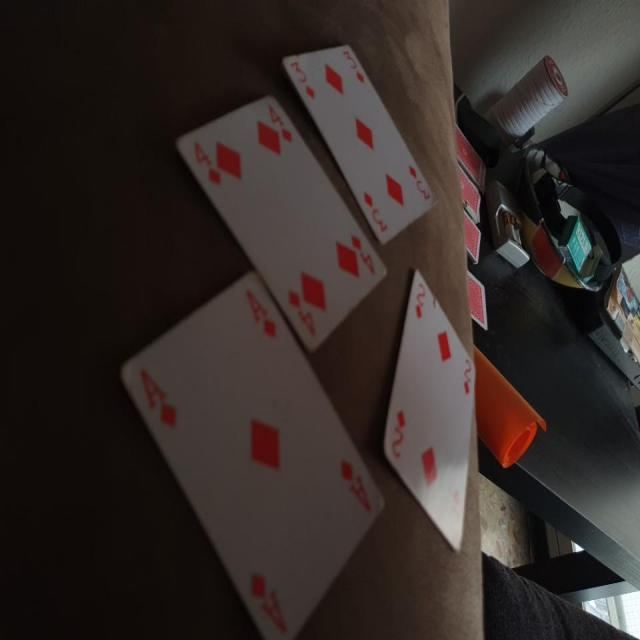2 Diamonds: (385, 269, 476, 556)
3 Diamonds: (278, 37, 442, 250)
4 Diamonds: (175, 90, 388, 356)
A Diamonds: (108, 272, 381, 640)
